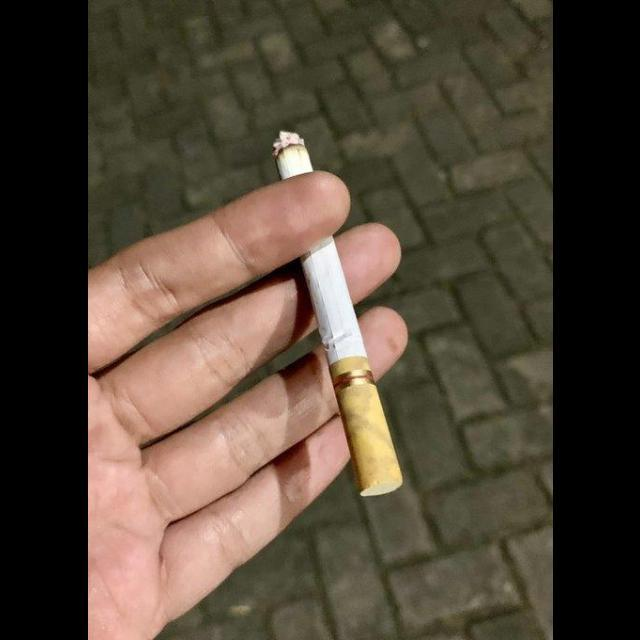rokok: (265, 117, 403, 495)
